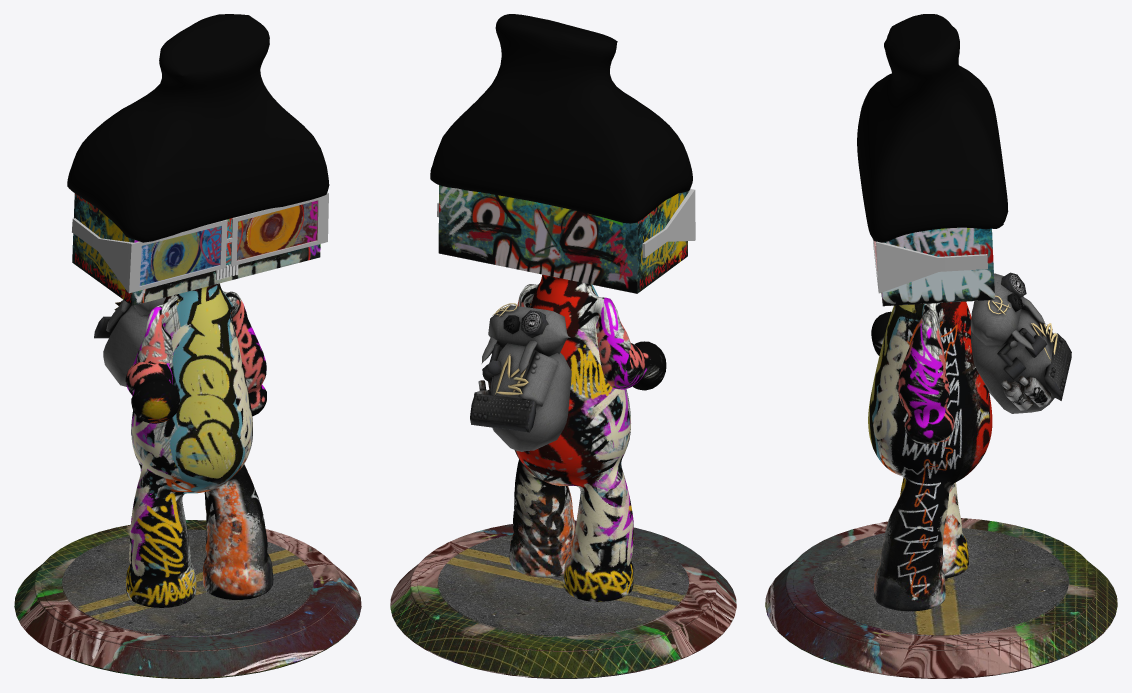
Rendered from 227_sanitized.glb.
3 renders of one model, left to right at view 1: azimuth 30°, elevation 25°; view 2: azimuth 150°, elevation 25°; view 3: azimuth 270°, elevation 25°, orthographic.
Parts seen in each view (by area): view 1: BBody; view 2: BBody; view 3: BBody.
Part boxes in pixels (x1,y1,x2,y2): BBody: (14,14,361,678); BBody: (390,14,736,678); BBody: (765,14,1117,678).
Size of the model in its own units: 1.45 by 2.66 by 1.45.
10 materials, 5 textured.
